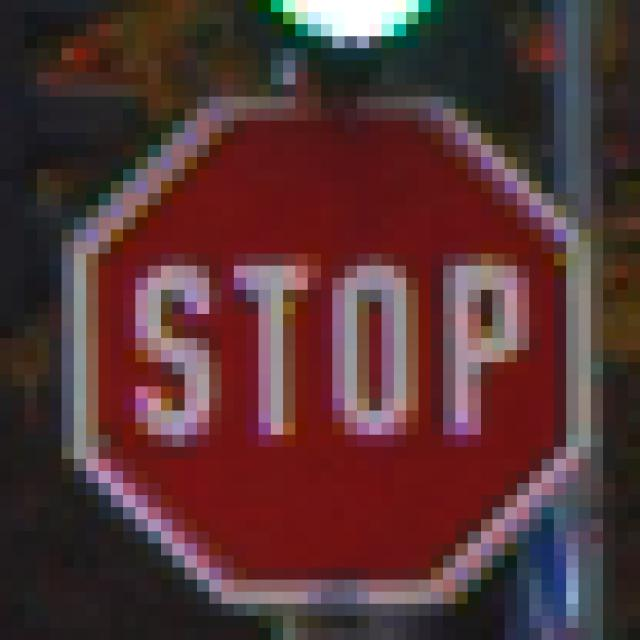STOP: (63, 62, 580, 581)
